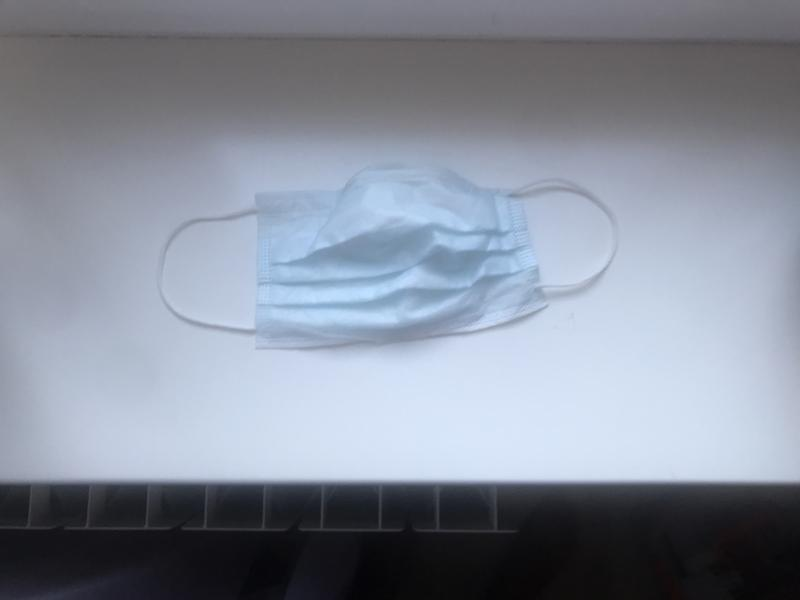medical_mask: (159, 165, 620, 347)
